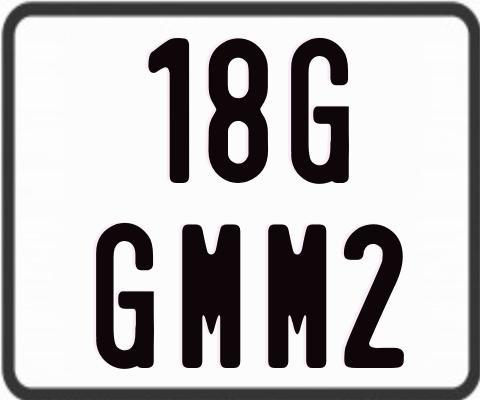1: (145, 38, 191, 183)
2: (342, 221, 404, 371)
8: (207, 35, 272, 181)
G: (290, 37, 349, 189), (96, 222, 155, 372)
M: (265, 223, 325, 370), (182, 223, 240, 372)
